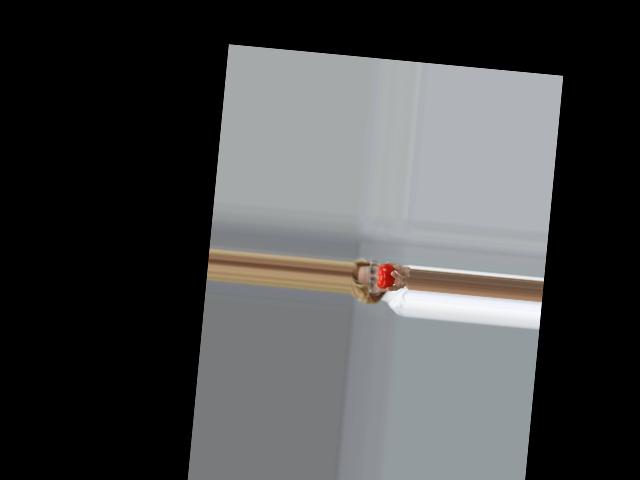tomato: (376, 263, 396, 290)
